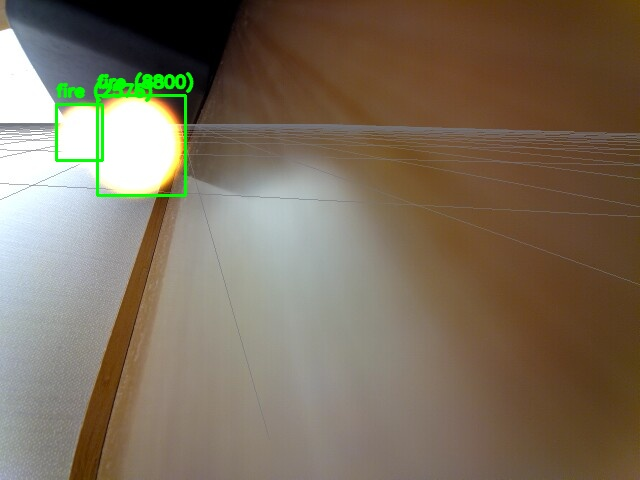fire: (97, 95, 185, 195), (56, 104, 102, 160)
